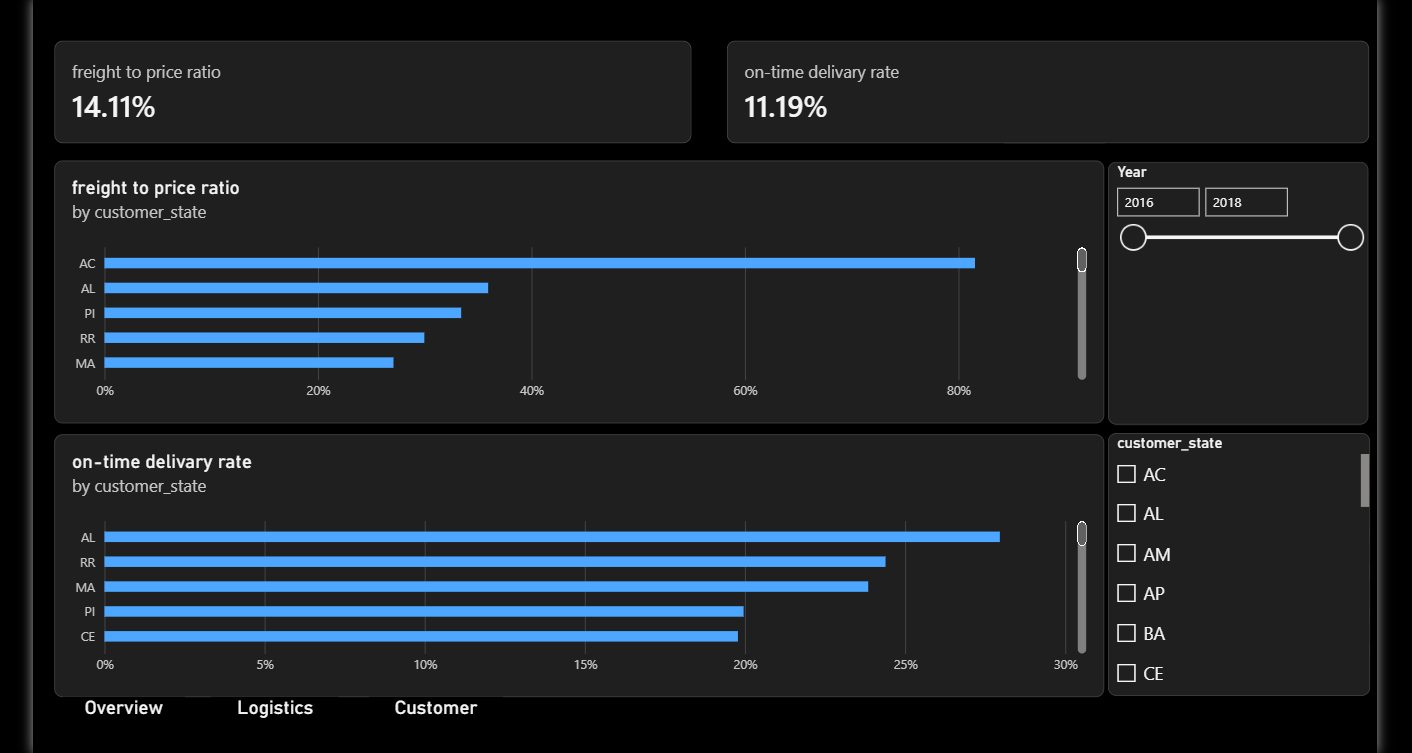

This screenshot's page, from the dashboard's own definition file:
{"tool":"powerbi","page":{"name":"logistics","canvas":[1280,720],"ordinal":2},"visuals":[{"type":"cardVisual","fields":{"Data":["order_items_.freight to price ratio"]},"box":[19.8,40.7,607.4,98.8],"z":0},{"type":"cardVisual","fields":{"Data":["order_items_.on-time delivary rate"]},"box":[660.5,40.7,612.3,98.8],"z":1000},{"type":"slicer","fields":{"Values":["order_items_.order_delivered_customer_date.Variation.Date Hierarchy.Year"]},"box":[1023.5,155.6,248.1,250.6],"z":2000},{"type":"barChart","fields":{"Category":["orders_.customer_state"],"Y":["order_items_.freight to price ratio"]},"box":[20,155,1000,250],"z":3000},{"type":"barChart","fields":{"Category":["orders_.customer_state"],"Y":["order_items_.on-time delivary rate"]},"box":[20,415,1000,250],"z":4000},{"type":"slicer","fields":{"Values":["orders_.customer_state"]},"box":[1023.5,414.8,249.4,250.6],"z":5000},{"type":"actionButton","title":"Overview","box":[28.4,665.4,116,39.5],"z":5001},{"type":"actionButton","title":"Customer","box":[319.8,665.4,127.2,39.5],"z":5002},{"type":"actionButton","title":"Logistics","box":[170.4,665.4,121,39.5],"z":5003}]}

Visuals, with their boxes on the page's 1280x720 design canvas (x1, y1, x2, y2). These are canvas units, not pixel positions in the 1412x753 screenshot, which may show the page scaled, cropped or inside an application window:
cardVisual - order_items_.freight to price ratio: [20,41,627,140]
cardVisual - order_items_.on-time delivary rate: [660,41,1273,140]
slicer - order_items_.order_delivered_customer_date.Variation.Date Hierarchy.Year: [1024,156,1272,406]
barChart - orders_.customer_state x order_items_.freight to price ratio: [20,155,1020,405]
barChart - orders_.customer_state x order_items_.on-time delivary rate: [20,415,1020,665]
slicer - orders_.customer_state: [1024,415,1273,665]
"Overview" actionButton: [28,665,144,705]
"Customer" actionButton: [320,665,447,705]
"Logistics" actionButton: [170,665,291,705]
